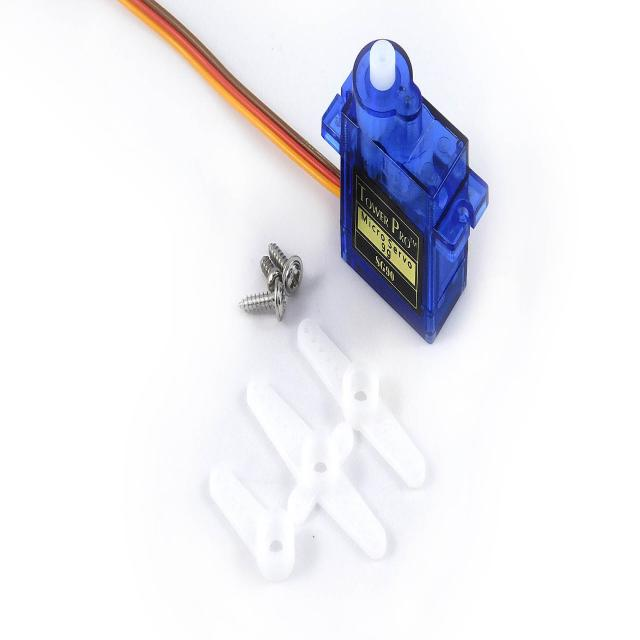motor: (320, 39, 488, 350)
